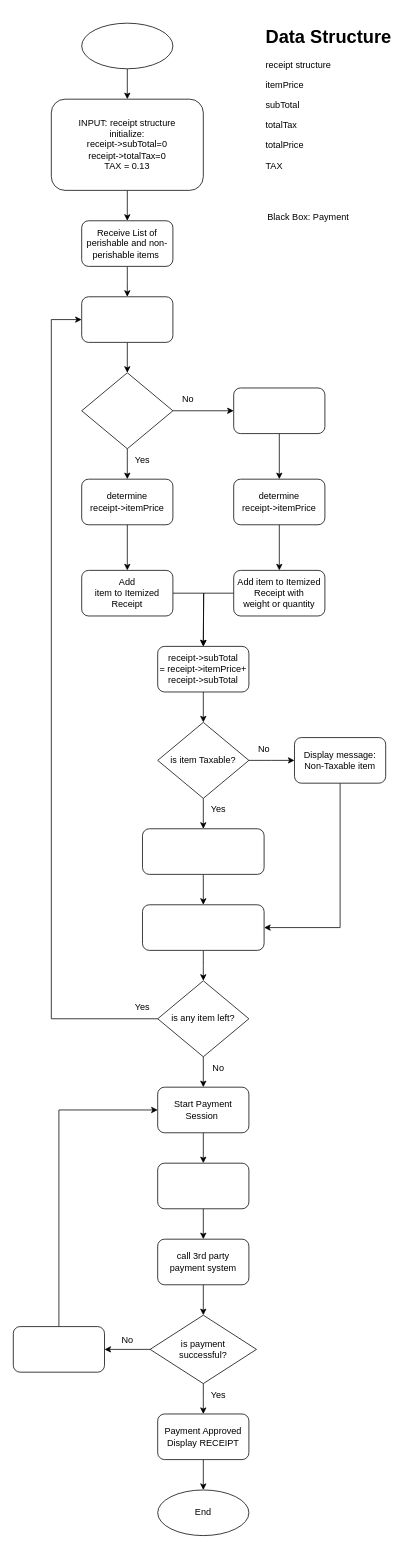
The diagram is 407 pixels wide and 1549 high, and some of its shapes have lost their labels. The centre of each missing label's shape, as x and y in pixels:
"Determine Item Weight or Quantity" goes at (279,410).
"Display: Payment Decline, TRY AGAIN !!" goes at (58,1349).
"is item Non-Perishable?" goes at (127,410).
"pull-up data for Total price" goes at (203,1185).
"receipt->totalPrice = receipt->totalTax + receipt->subTotal" goes at (203,927).
"receipt->totalTax = receipt->totalTax + receipt->itemPrice*TAX" goes at (203,851).
"Scan Items" goes at (127,319).
"start" goes at (127,45).
